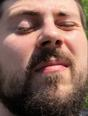without_mask: (2, 1, 88, 116)
